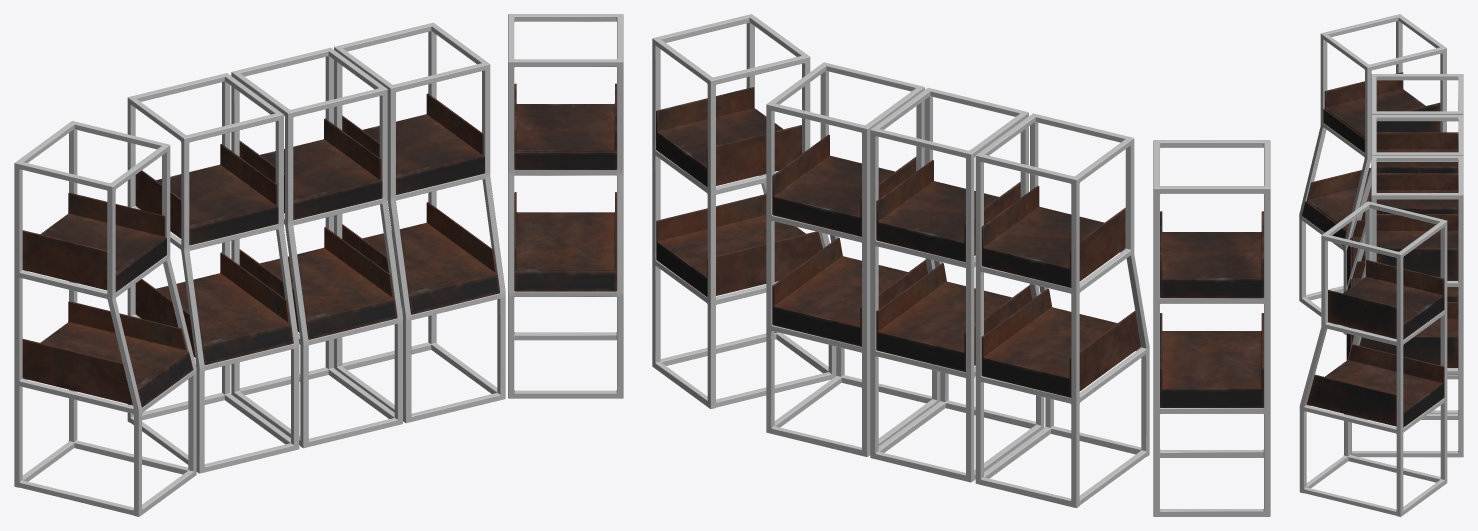
Rendered from RACK.fbx.
3 views of the same model, side by side, from view 1: azimuth 30°, elevation 25°; view 2: azimuth 150°, elevation 25°; view 3: azimuth 270°, elevation 25° (orthographic). The views are drawn at different scales.
Visible parts, largest first — view 1: Rack_D_RackShelves_0.001, Rack_B_RackShelves_0.001, Rack_D_Rack_0.001, Rack_A_RackShelves_0.001, Rack_C_RackShelves_0.001, Rack_E_RackShelves_0.001, Rack_B_Rack_0.001, Rack_A_Rack_0.001, Rack_C_Rack_0.001, Rack_E_Rack_0.001; view 2: Rack_B_RackShelves_0.001, Rack_E_RackShelves_0.001, Rack_B_Rack_0.001, Rack_A_RackShelves_0.001, Rack_C_RackShelves_0.001, Rack_D_RackShelves_0.001, Rack_E_Rack_0.001, Rack_A_Rack_0.001, Rack_C_Rack_0.001, Rack_D_Rack_0.001; view 3: Rack_E_RackShelves_0.001, Rack_E_Rack_0.001, Rack_D_RackShelves_0.001, Rack_C_RackShelves_0.001, Rack_D_Rack_0.001, Rack_C_Rack_0.001, Rack_B_RackShelves_0.001, Rack_A_RackShelves_0.001, Rack_B_Rack_0.001, Rack_A_Rack_0.001.
Boxes of the visible parts, <box> form: Rack_D_RackShelves_0.001: <box>22,192,193,407</box>; Rack_B_RackShelves_0.001: <box>135,144,293,365</box>; Rack_D_Rack_0.001: <box>14,121,196,516</box>; Rack_A_RackShelves_0.001: <box>239,118,397,339</box>; Rack_C_RackShelves_0.001: <box>342,93,499,314</box>; Rack_E_RackShelves_0.001: <box>514,83,616,291</box>; Rack_B_Rack_0.001: <box>127,73,299,473</box>; Rack_A_Rack_0.001: <box>231,47,402,448</box>; Rack_C_Rack_0.001: <box>334,22,505,423</box>; Rack_E_Rack_0.001: <box>508,14,623,398</box>; Rack_B_RackShelves_0.001: <box>981,186,1140,397</box>; Rack_E_RackShelves_0.001: <box>656,87,822,297</box>; Rack_B_Rack_0.001: <box>975,113,1149,508</box>; Rack_A_RackShelves_0.001: <box>876,160,1032,372</box>; Rack_C_RackShelves_0.001: <box>772,134,927,346</box>; Rack_D_RackShelves_0.001: <box>1160,211,1263,407</box>; Rack_E_Rack_0.001: <box>652,14,835,408</box>; Rack_A_Rack_0.001: <box>870,87,1044,482</box>; Rack_C_Rack_0.001: <box>766,62,940,456</box>; Rack_D_Rack_0.001: <box>1153,140,1270,516</box>; Rack_E_RackShelves_0.001: <box>1306,259,1444,427</box>; Rack_E_Rack_0.001: <box>1299,201,1447,516</box>; Rack_D_RackShelves_0.001: <box>1302,72,1440,246</box>; Rack_C_RackShelves_0.001: <box>1346,214,1458,368</box>; Rack_D_Rack_0.001: <box>1299,14,1446,334</box>; Rack_C_Rack_0.001: <box>1350,155,1463,457</box>; Rack_B_RackShelves_0.001: <box>1346,132,1458,286</box>; Rack_A_RackShelves_0.001: <box>1347,173,1458,301</box>; Rack_B_Rack_0.001: <box>1346,74,1463,289</box>; Rack_A_Rack_0.001: <box>1347,115,1463,413</box>.
Bounding box in the file's own units: 389 × 198 × 112.
